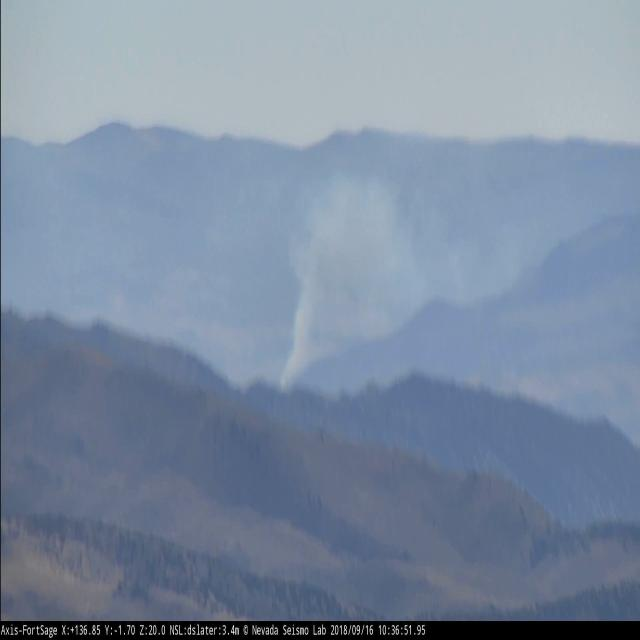smoke: (279, 175, 406, 393)
